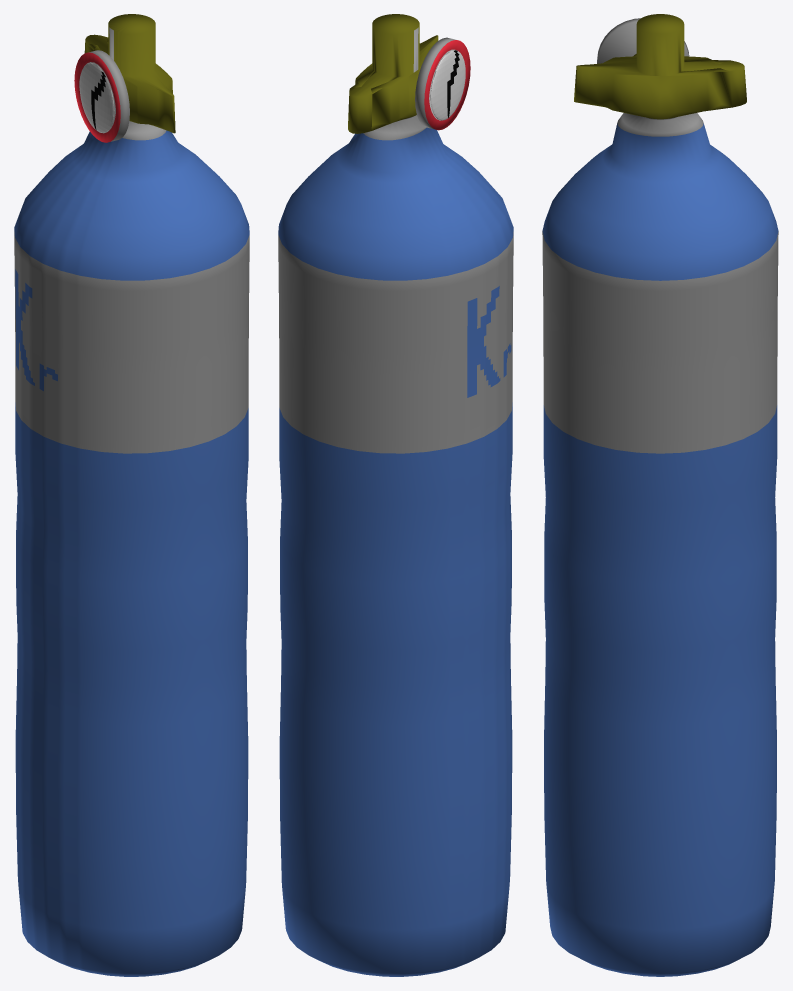
3 views of the same model, side by side, from view 1: azimuth 30°, elevation 25°; view 2: azimuth 150°, elevation 25°; view 3: azimuth 270°, elevation 25° (orthographic).
Visible parts, largest first — view 1: Sphere; view 2: Sphere; view 3: Sphere.
Part boxes in pixels (<box>): Sphere: <box>14,14,249,976</box>; Sphere: <box>278,14,513,976</box>; Sphere: <box>542,14,778,976</box>.
Size of the model in its own units: 0.2071 by 0.9062 by 0.2071.
